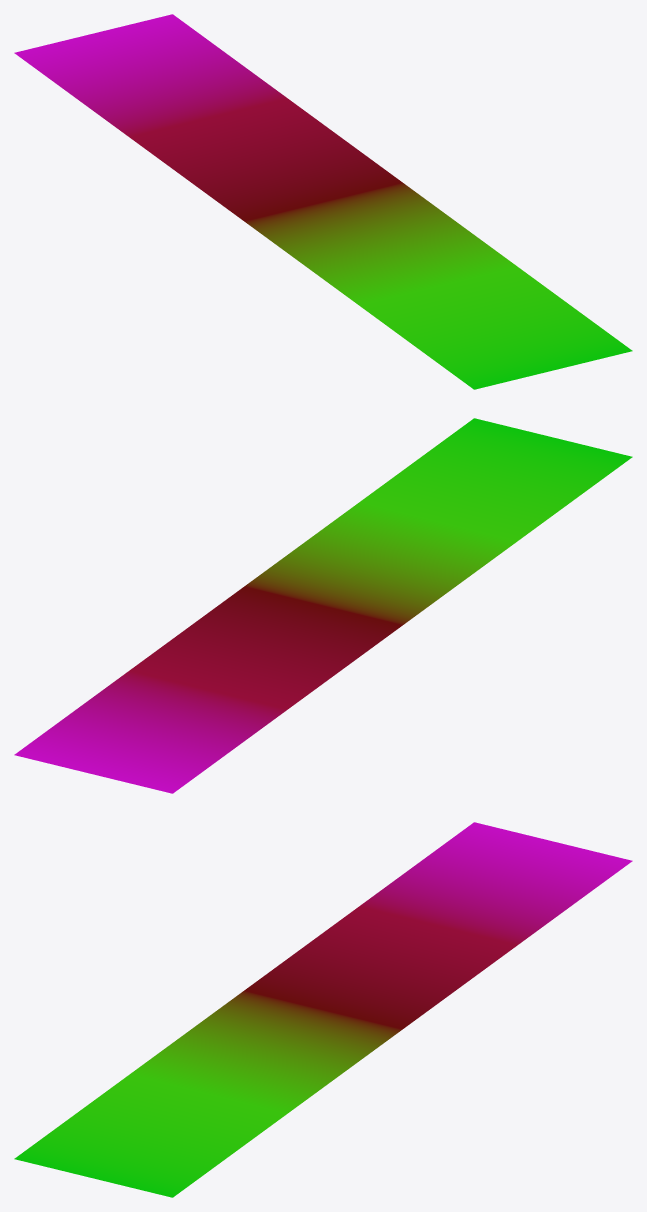
File: gradientVertexColor.fbx
The picture shows the model from 3 angles, top to bottom: view 1: azimuth 30°, elevation 25°; view 2: azimuth 150°, elevation 25°; view 3: azimuth 330°, elevation 25°; orthographic projection.
Visible parts, largest first — view 1: Plane; view 2: Plane; view 3: Plane.
Part boxes in pixels (left/top/right/bottom): Plane: left=14, top=14, right=632, bottom=389; Plane: left=14, top=418, right=632, bottom=793; Plane: left=14, top=822, right=632, bottom=1197.
Size of the model in its own units: 200 by 0 by 1004.
